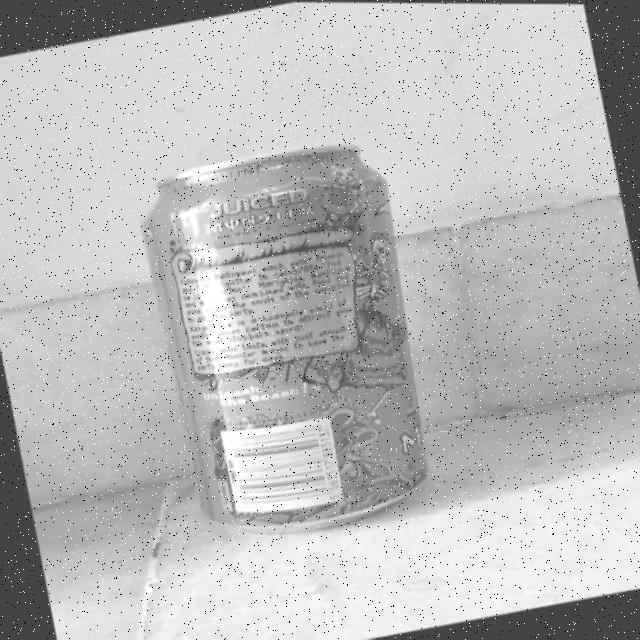Monster Mango Loco: (87, 103, 490, 574)
